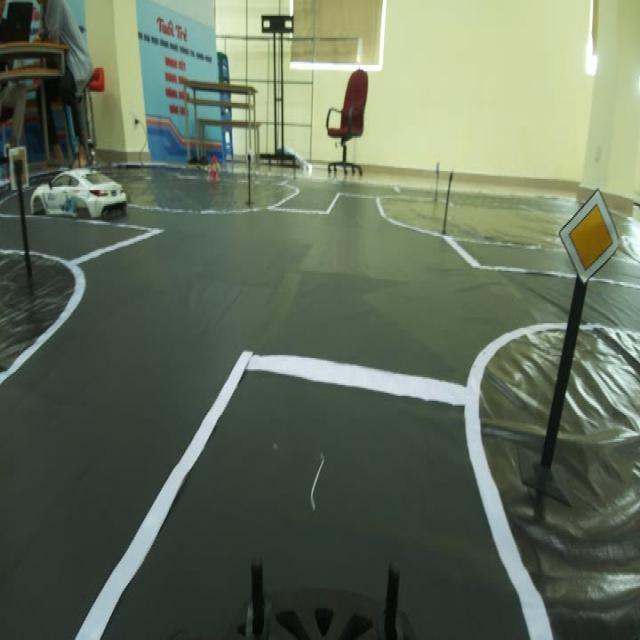priority: (558, 180, 620, 294)
